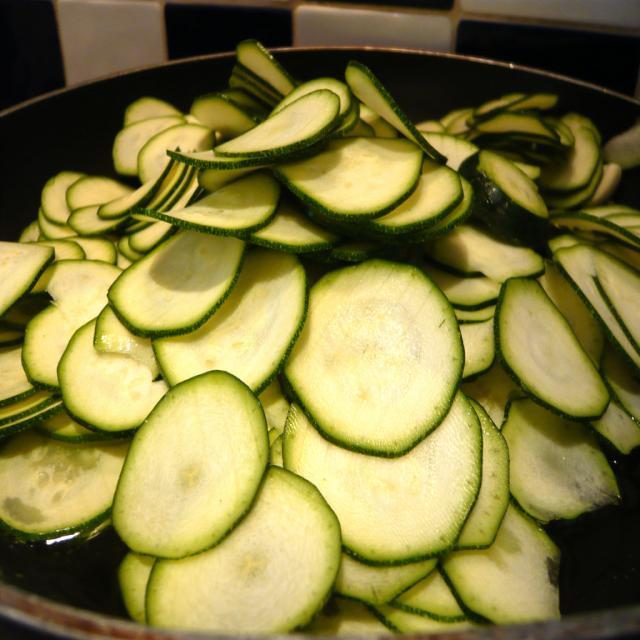Zucchini: (2, 40, 640, 639), (112, 369, 272, 561)
